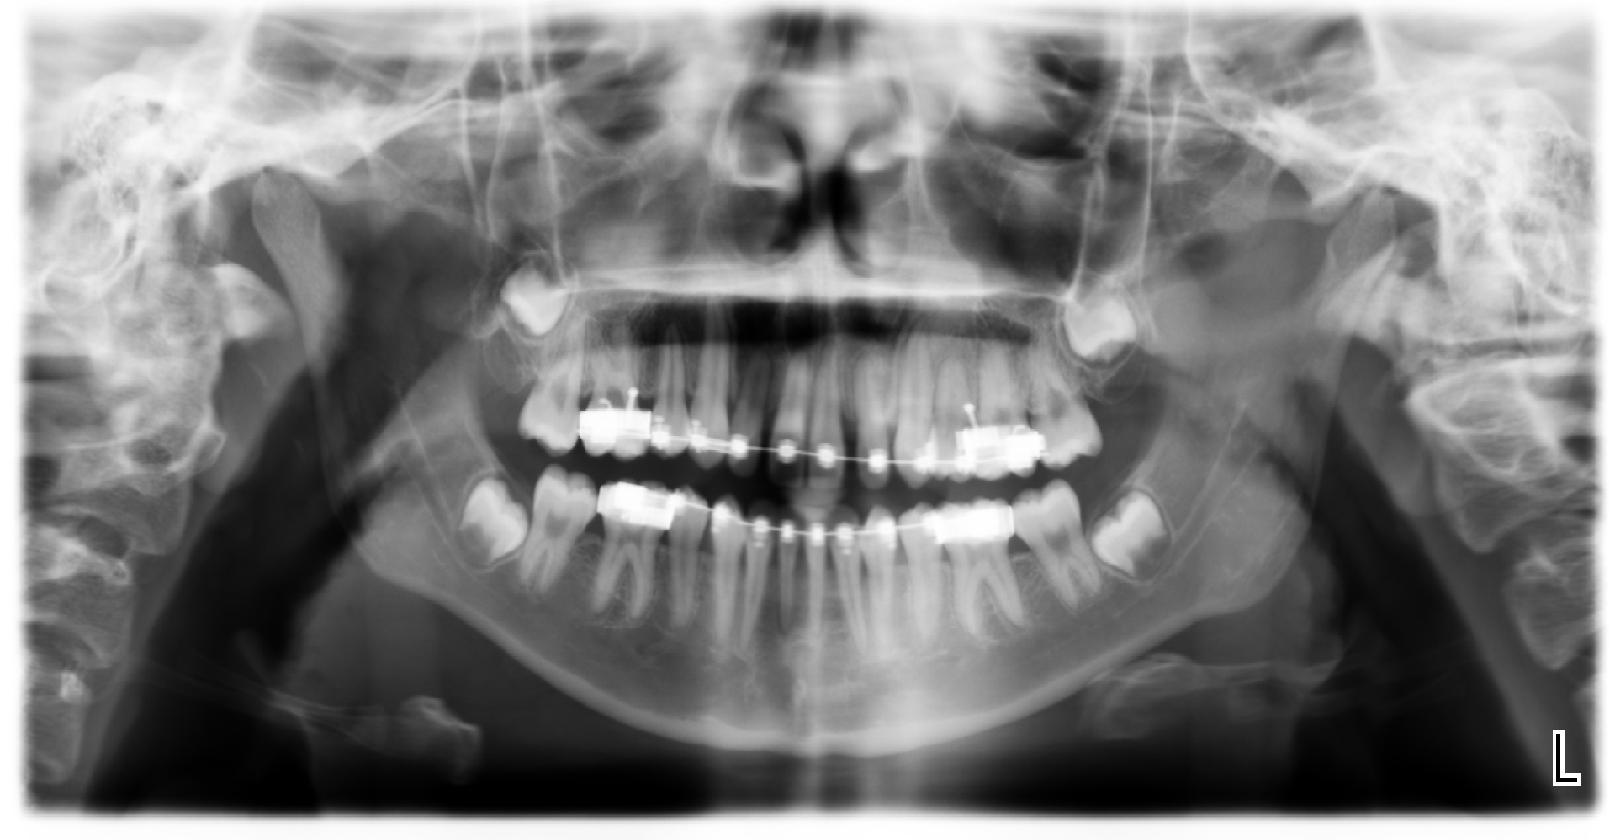Mesio-angular: (449, 464, 540, 578), (1084, 489, 1180, 595)
